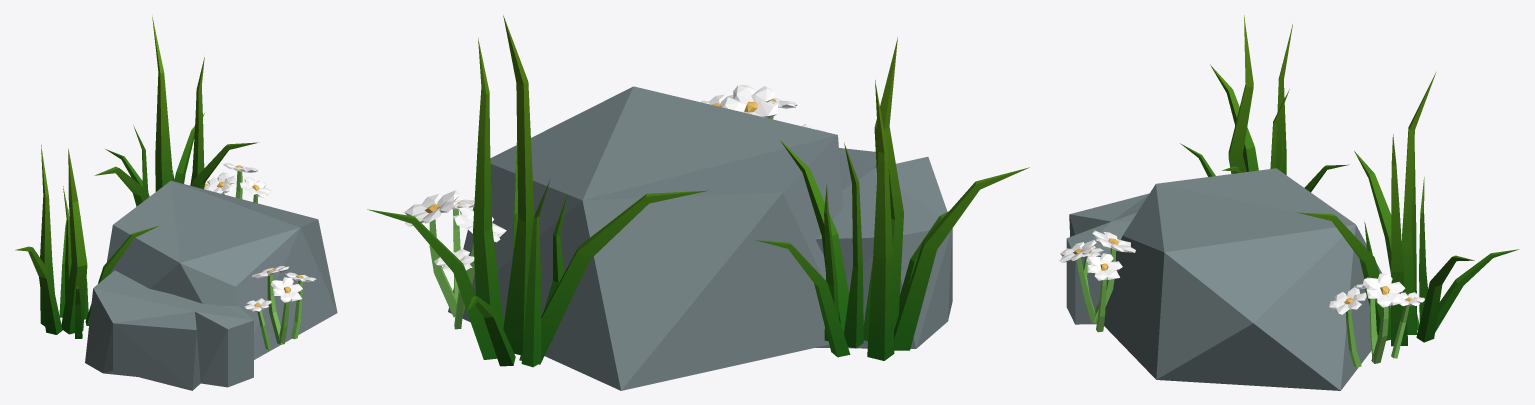
The model's file is Rock_07.fbx.
3 views of the same model, side by side, from view 1: azimuth 30°, elevation 25°; view 2: azimuth 150°, elevation 25°; view 3: azimuth 270°, elevation 25° (orthographic). The views are drawn at different scales.
Visible parts, largest first — view 1: Rock_07; view 2: Rock_07; view 3: Rock_07.
Part boxes in pixels (x1,y1,x2,y2): Rock_07: (15, 16, 337, 390); Rock_07: (367, 15, 1029, 390); Rock_07: (1059, 15, 1518, 390).
Bounding box in the file's own units: 91.83 × 68.14 × 95.94.
